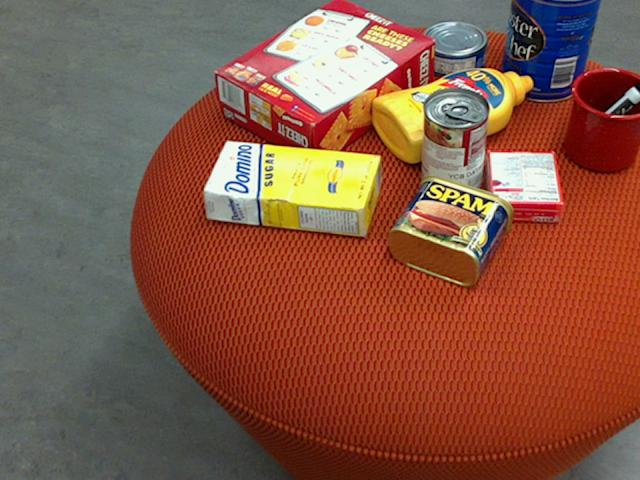cracker_box: (213, 0, 434, 166)
gelatin_box: (487, 151, 564, 223)
large_marker: (568, 78, 639, 153)
master_chef_can: (499, 0, 600, 101)
mug: (564, 67, 639, 171)
mustard_bottle: (371, 68, 532, 162)
potted_meat_can: (387, 173, 512, 285)
sugar_box: (200, 139, 380, 237)
tomato_soup_can: (421, 85, 488, 200)
tuna_fish_can: (418, 21, 486, 76)
